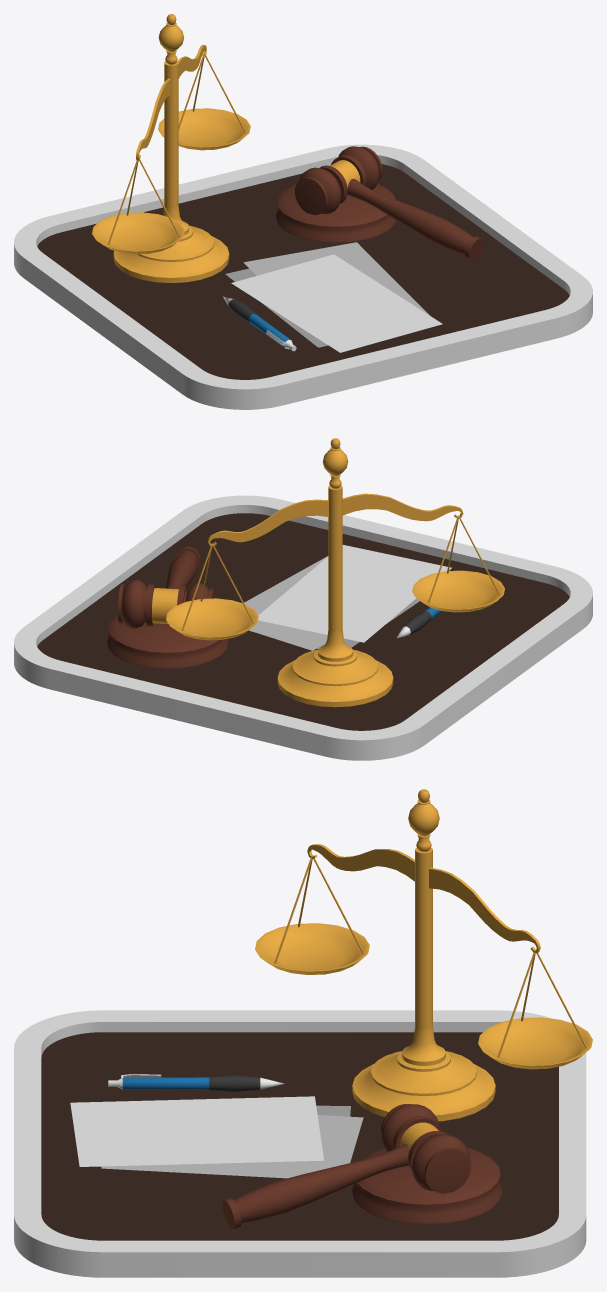
The model's file is АДМ.gltf.
3 renders of one model, top to bottom at view 1: azimuth 30°, elevation 25°; view 2: azimuth 150°, elevation 25°; view 3: azimuth 270°, elevation 25°, orthographic. The views are drawn at different scales.
Parts seen in each view (by area): view 1: Cube.005; view 2: Cube.005; view 3: Cube.005.
Part boxes in pixels (bbox=[...]): Cube.005: bbox=[14, 14, 592, 409]; Cube.005: bbox=[14, 438, 592, 760]; Cube.005: bbox=[14, 789, 592, 1277].
Size of the model in its own units: 6.01 by 3.67 by 6.08.
